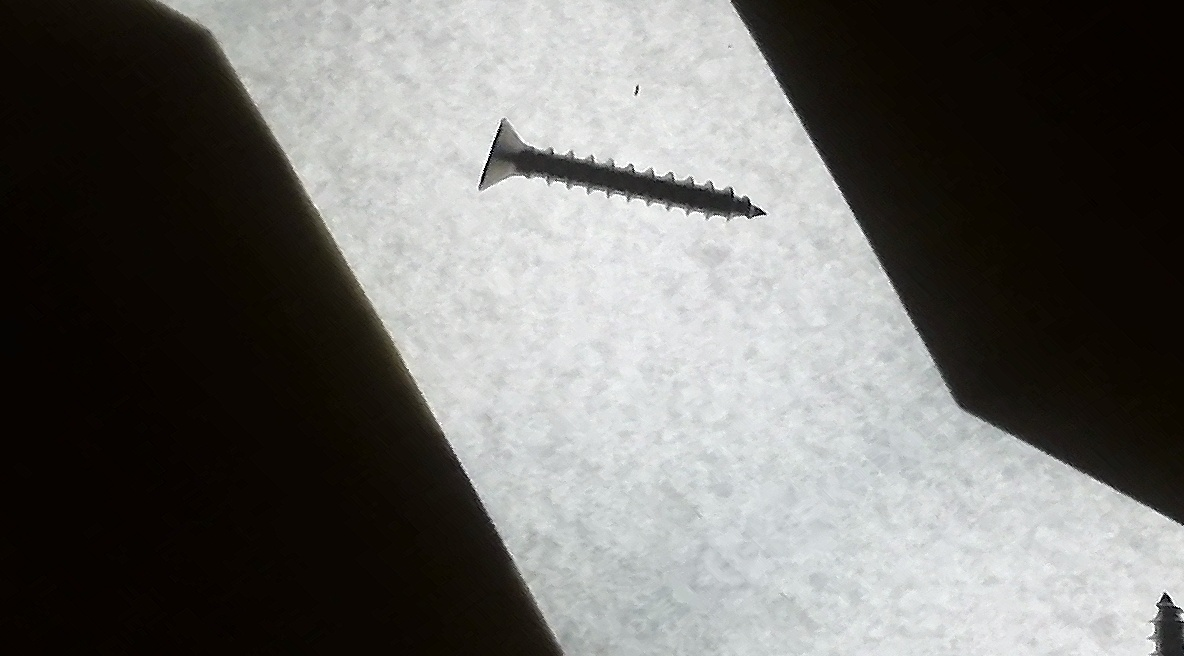S001: (432, 24, 814, 334)
